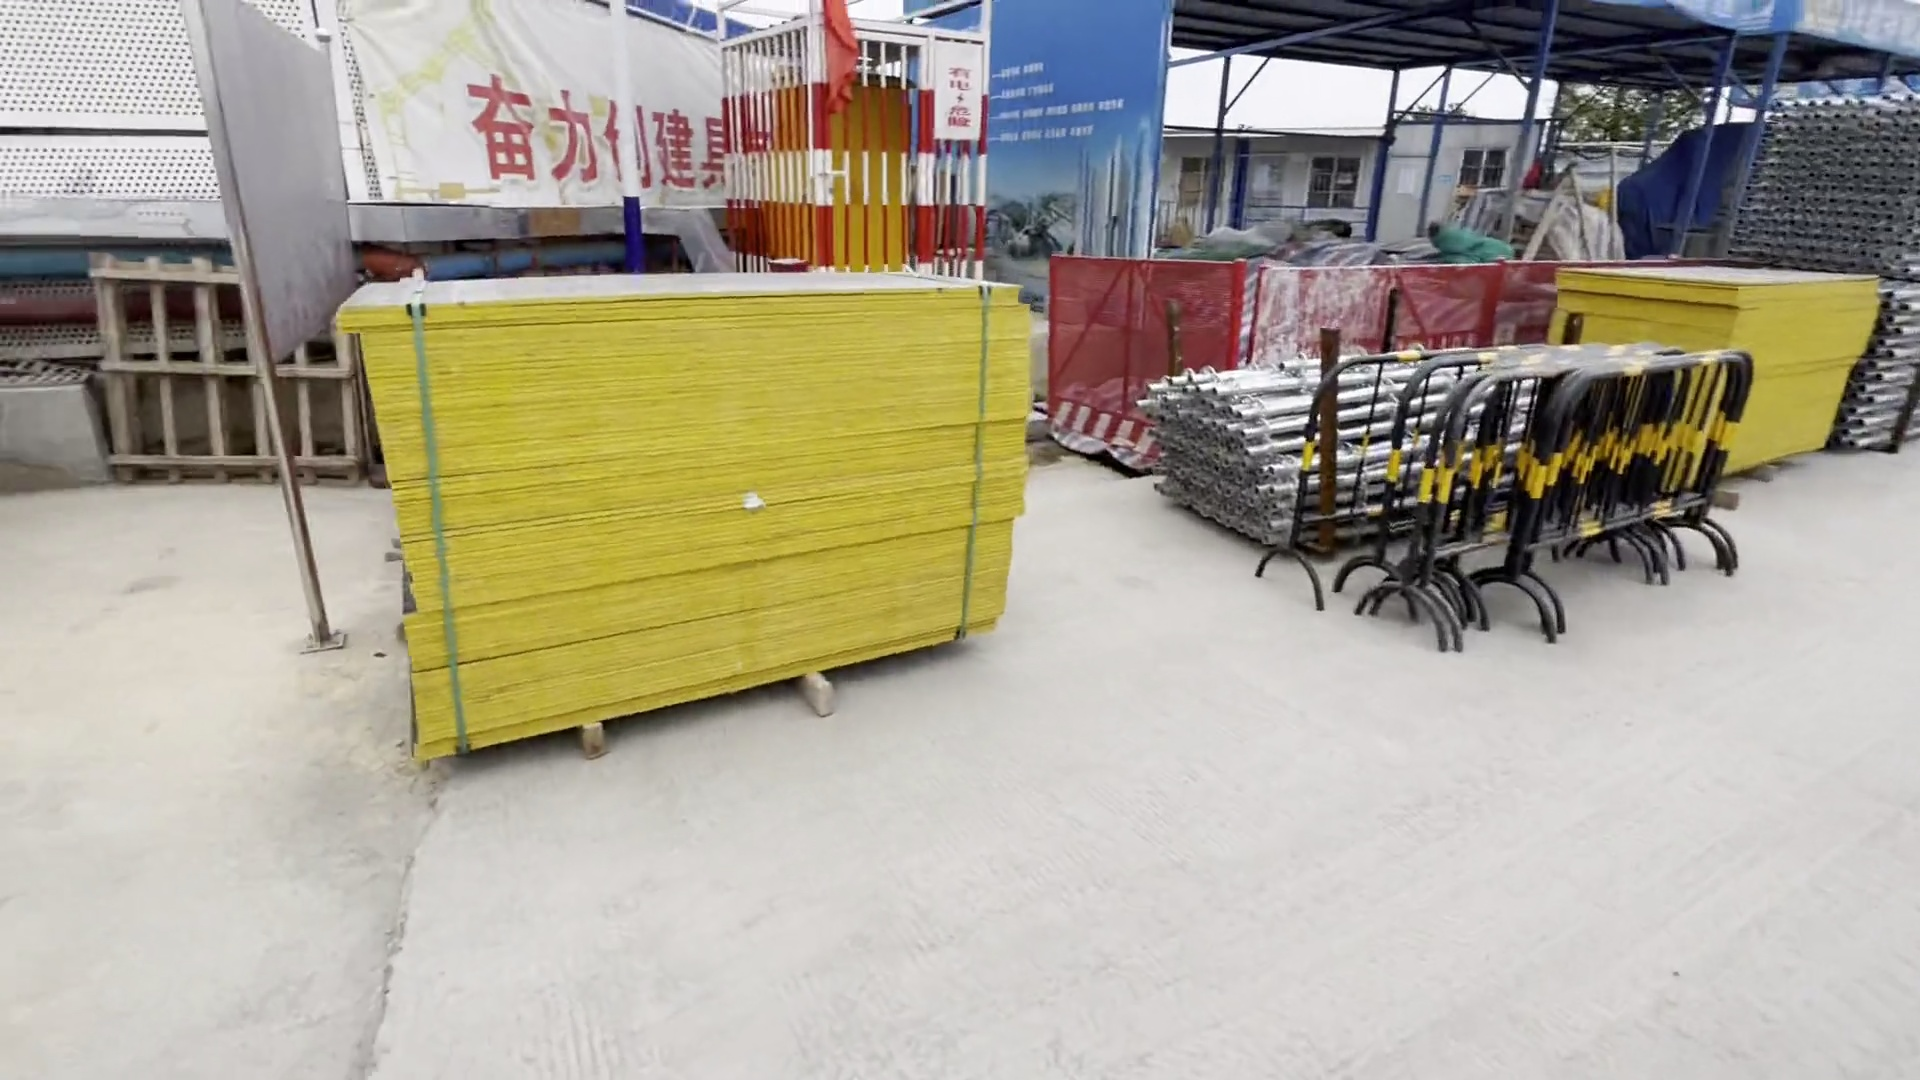board: (343, 281, 1033, 719), (1547, 270, 1855, 471)
ebox: (753, 76, 926, 278)
fence: (1063, 257, 1498, 378)
scaffold: (1138, 349, 1634, 535), (1714, 95, 1920, 406)
slogan: (465, 69, 735, 199)
